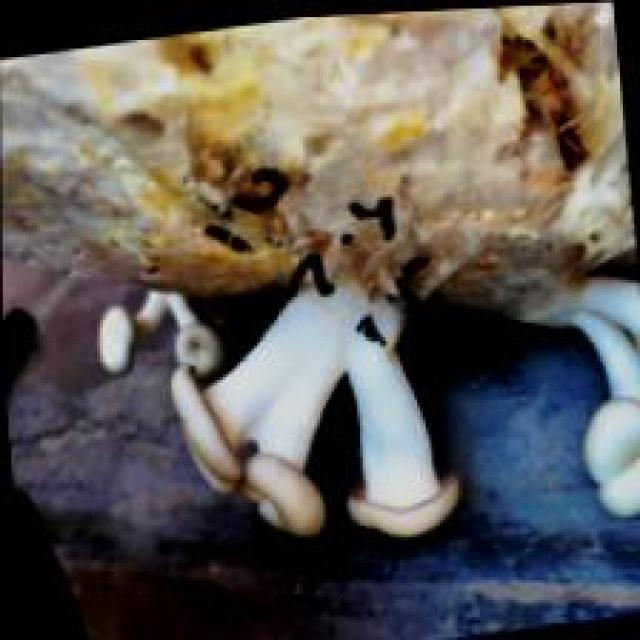chanterelle: (3, 3, 640, 540)
